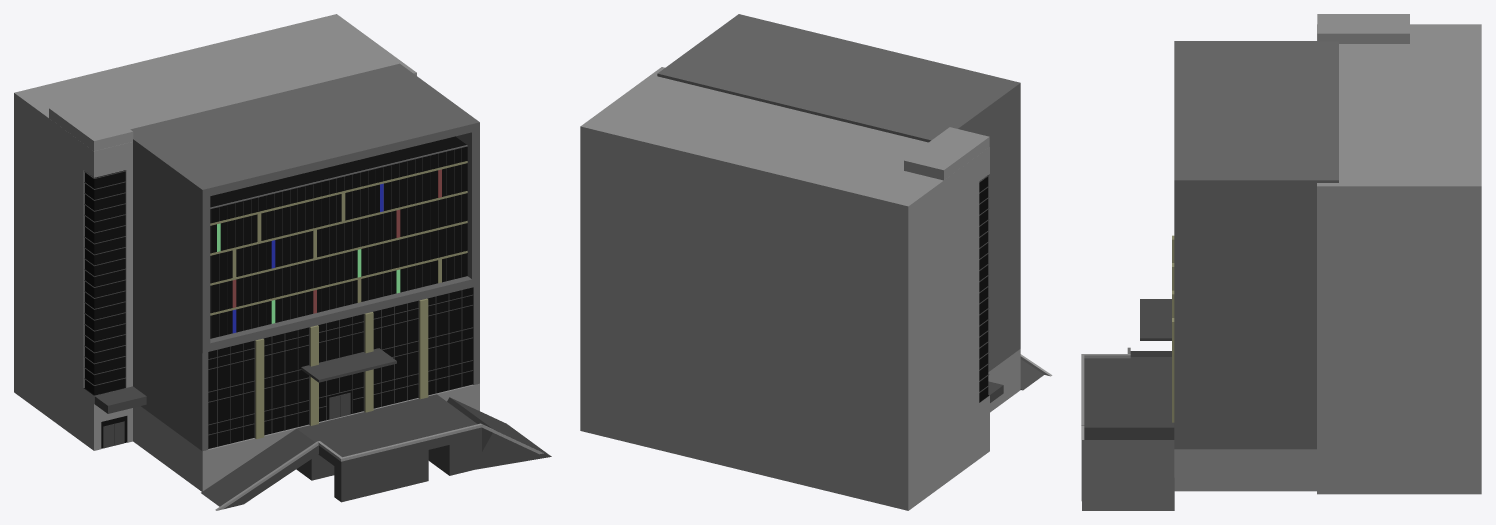
3 renders of one model, left to right at view 1: azimuth 30°, elevation 25°; view 2: azimuth 150°, elevation 25°; view 3: azimuth 270°, elevation 25°, orthographic. The views are drawn at different scales.
Visible parts, largest first — view 1: Box284, Box017, Box092, Box002, Box292, Box016, Box001, Box027, Box081, Box078, Box080, Box010 (+16 smaller); view 2: Box284, Box017, Box016, Box313, Box292, Box001; view 3: Box284, Box017, Box016, Box002, Box014, Box001, Box313, Box077.
Part boxes in pixels (x1,y1,x2,y2): Box284: (14, 14, 416, 450); Box017: (130, 63, 479, 353); Box092: (210, 141, 467, 338); Box002: (296, 394, 481, 502); Box292: (84, 170, 125, 394); Box016: (133, 285, 479, 451); Box001: (133, 383, 479, 491); Box027: (208, 341, 254, 448); Box081: (427, 287, 472, 395); Box078: (263, 327, 308, 435); Box080: (373, 301, 418, 408); Box010: (201, 429, 318, 509); Box284: (580, 67, 989, 510); Box017: (657, 14, 1020, 272); Box016: (988, 249, 1020, 371); Box313: (904, 127, 989, 180); Box292: (979, 175, 988, 401); Box001: (988, 349, 1020, 412); Box284: (1317, 24, 1481, 494); Box017: (1174, 41, 1338, 348); Box016: (1174, 348, 1316, 449); Box002: (1084, 357, 1174, 439); Box014: (1082, 440, 1174, 510); Box001: (1174, 449, 1316, 491); Box313: (1317, 14, 1409, 43); Box077: (1140, 299, 1171, 340).
Size of the model in its own units: 660 by 648 by 579.
